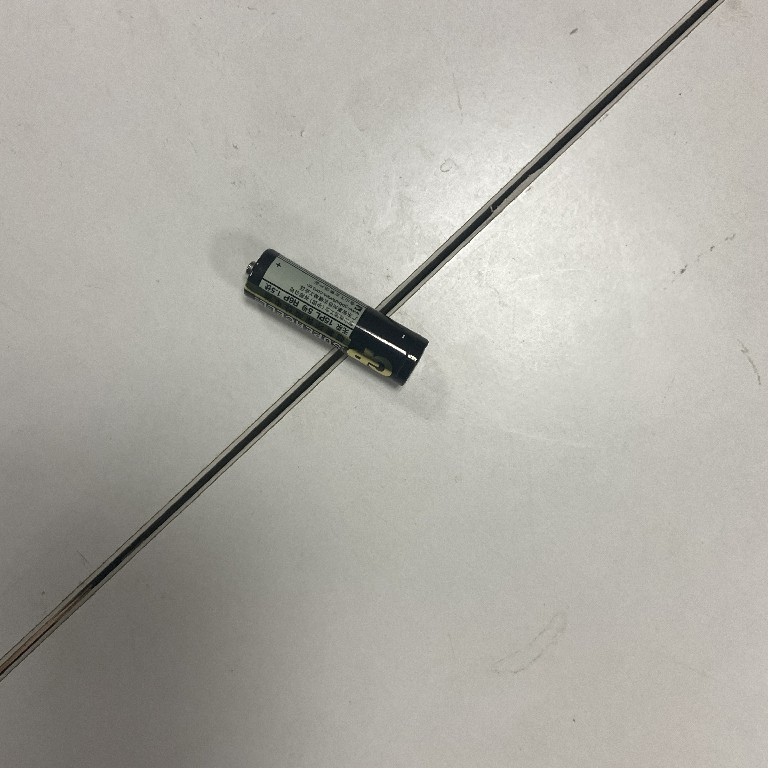charge: (238, 244, 437, 394)
